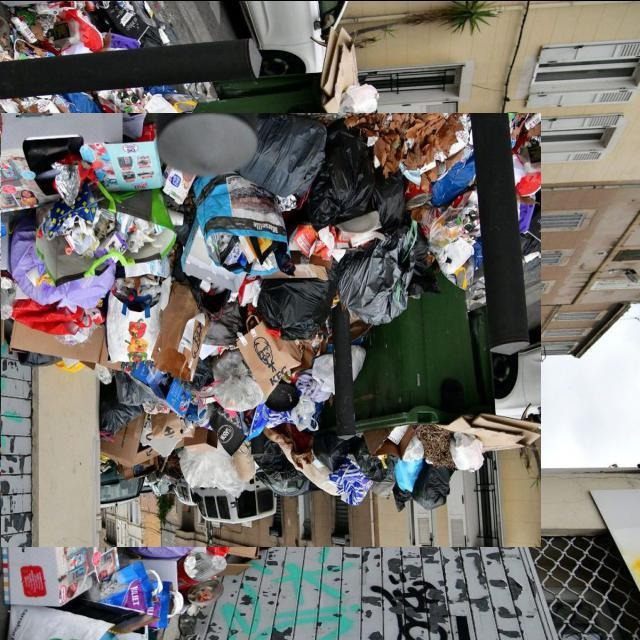Trashbag: (239, 113, 327, 200), (329, 243, 420, 324), (254, 277, 336, 340), (319, 136, 377, 225), (98, 374, 147, 434), (313, 425, 362, 481), (254, 447, 304, 498), (374, 177, 410, 236), (416, 464, 454, 510)
